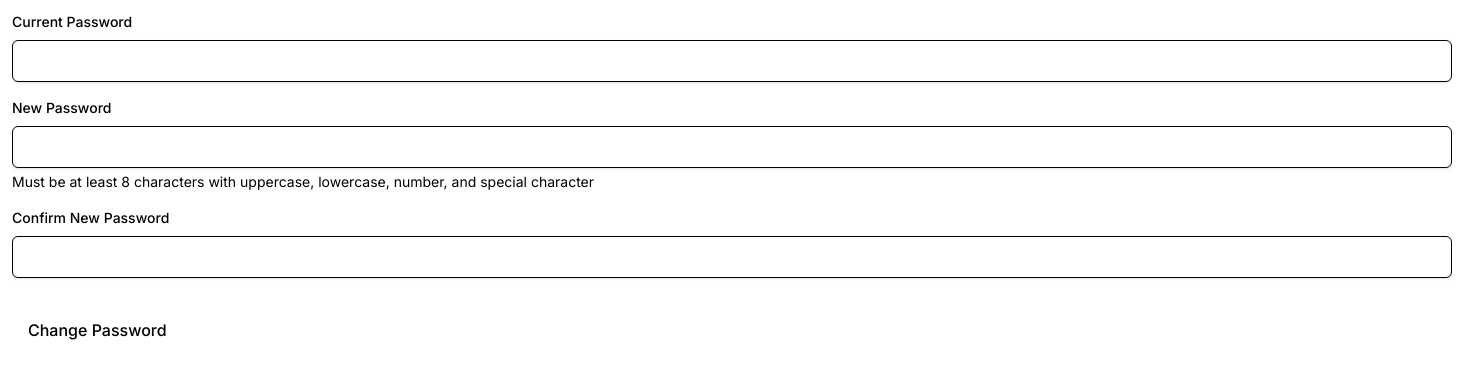
Test: ChangePasswordForm › shows validation error when current password is empty
Type "NewPassword123!" into the password field labelled "New Password" at x=732, y=147, box [12,126,1452,168]
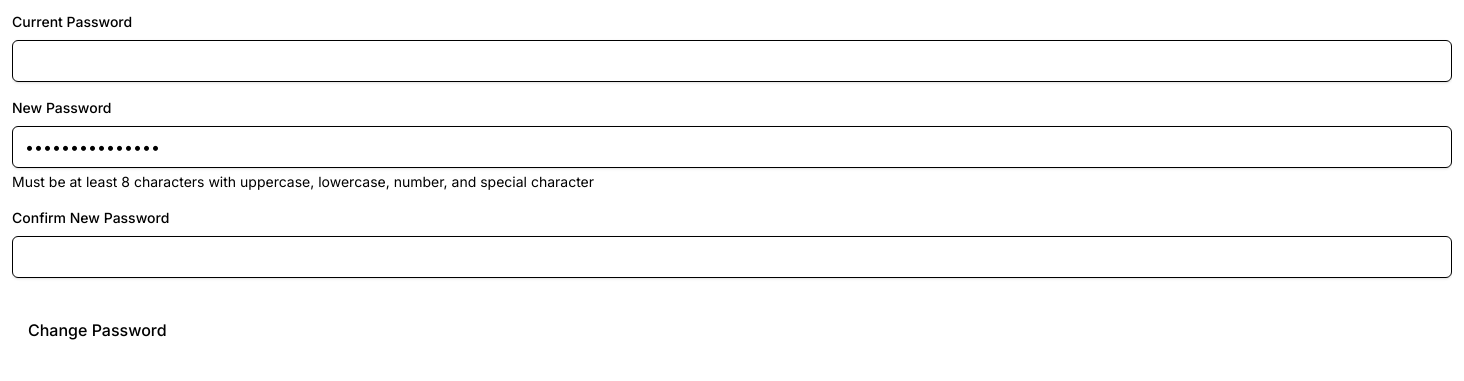
Type "NewPassword123!" into the password field labelled "Confirm New Password" at x=732, y=257, box [12,236,1452,278]
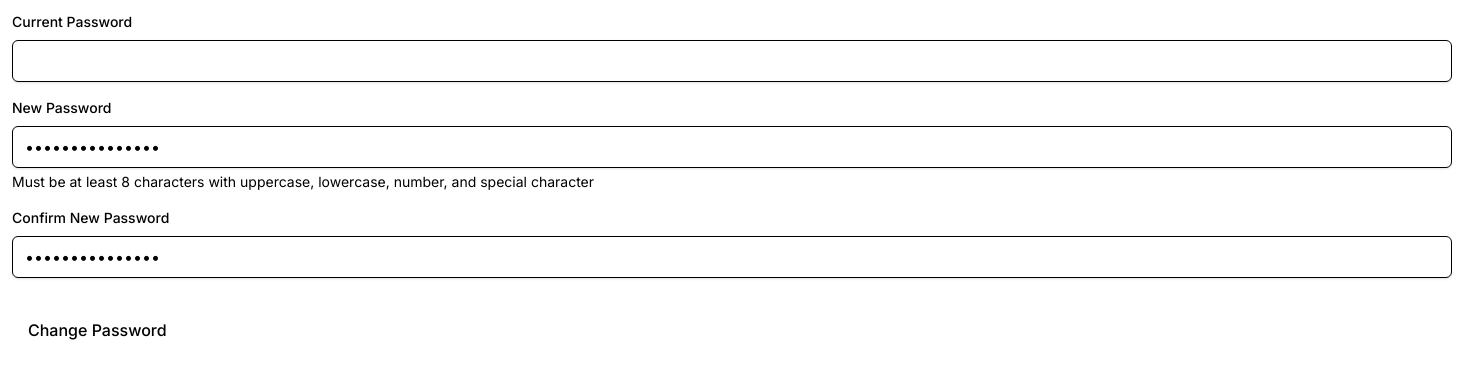
Click the button "Change Password" at x=97, y=330, box [12,310,183,350]
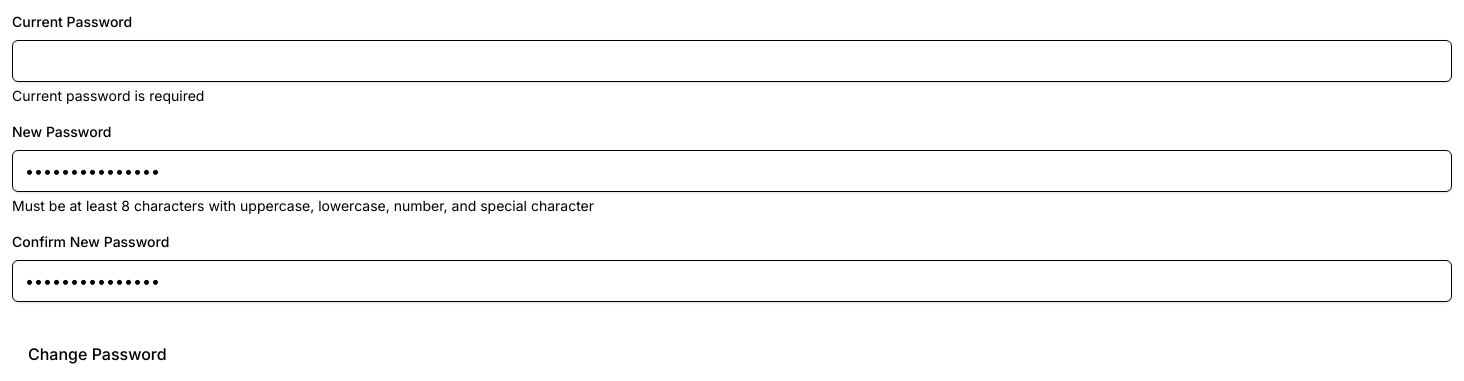
Now the text "Current password is required" is shown, box [12,87,204,104]
